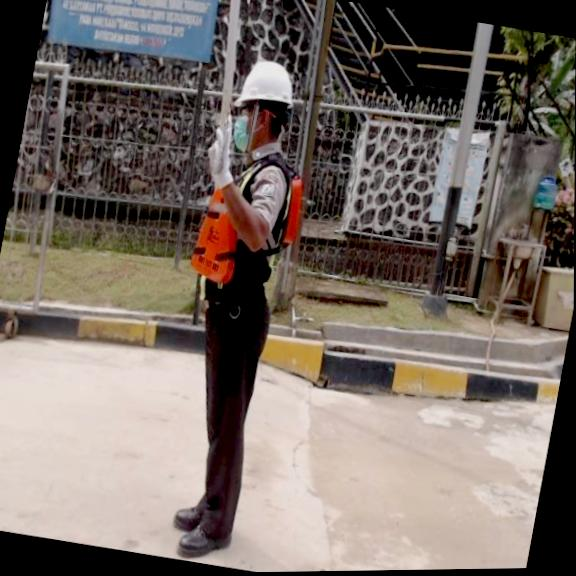safety_vest: (187, 162, 308, 296)
